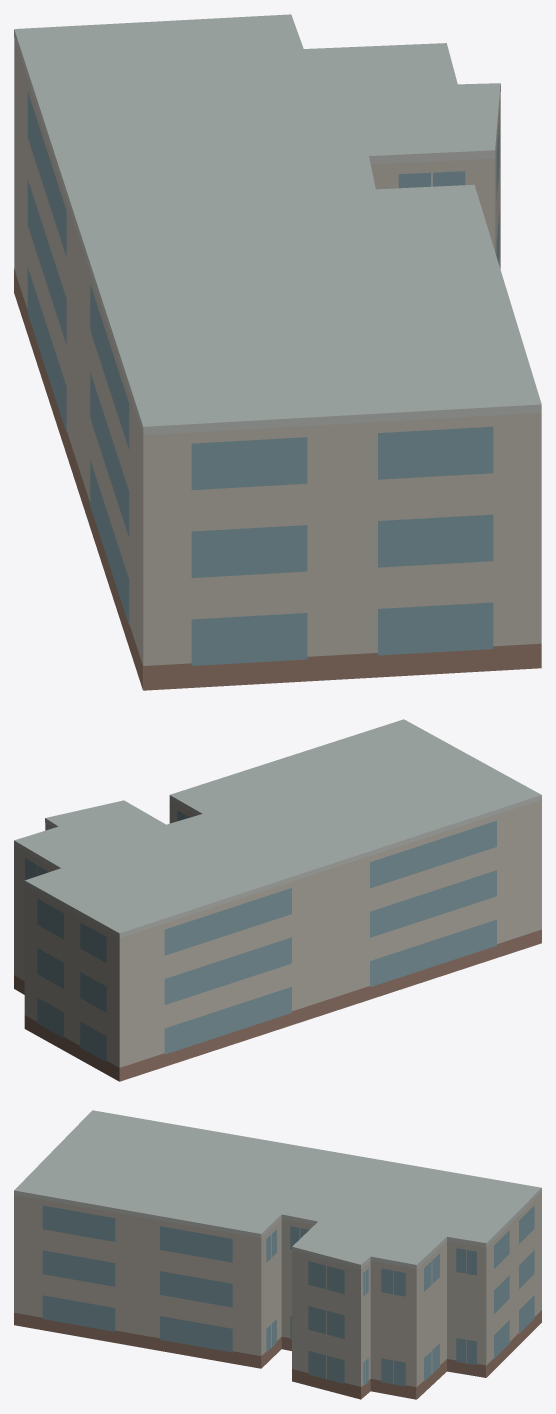
File: survey-upis-33015185.glb
3 renders of one model, top to bottom at view 1: azimuth 30°, elevation 25°; view 2: azimuth 150°, elevation 25°; view 3: azimuth 270°, elevation 25°, orthographic. The views are drawn at different scales.
Visible parts, largest first — view 1: survey-upis-33015185.tmp; view 2: survey-upis-33015185.tmp; view 3: survey-upis-33015185.tmp.
Boxes of the visible parts, box(x1,y1,x2,y2) form: survey-upis-33015185.tmp: box(14, 14, 541, 690); survey-upis-33015185.tmp: box(14, 719, 541, 1081); survey-upis-33015185.tmp: box(14, 1110, 541, 1399).
Bounding box in the file's own units: 18.99 × 7.7 × 27.35.
